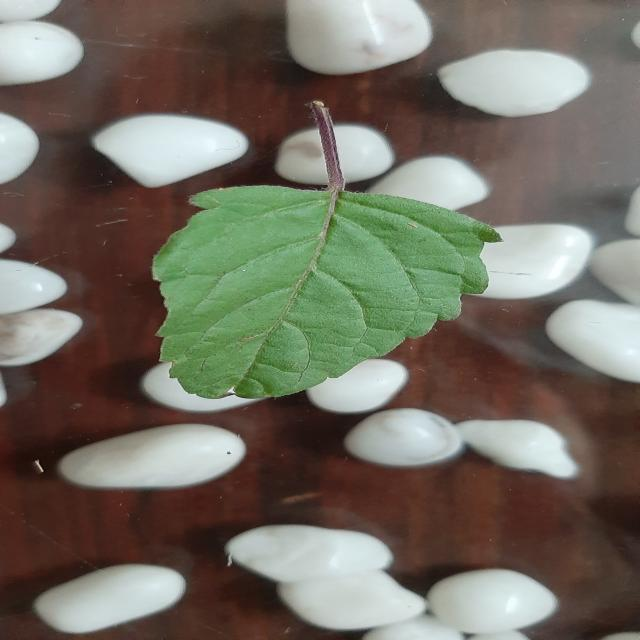tulsi: (154, 186, 499, 398)
